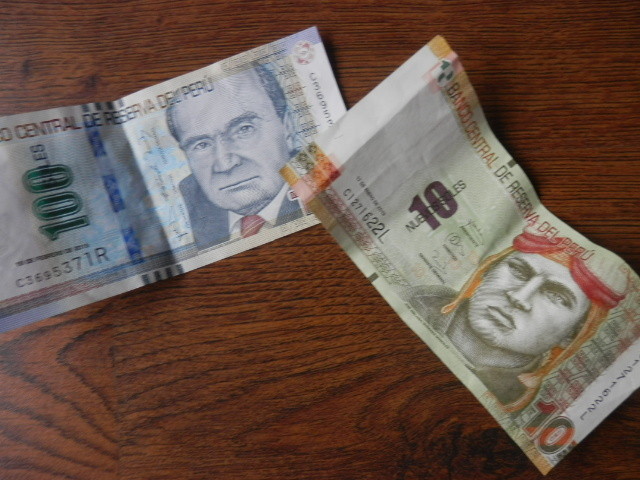B10: (295, 12, 640, 467)
B100: (1, 31, 350, 310)
